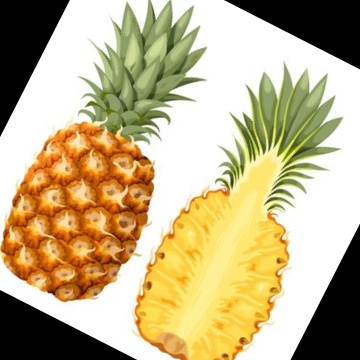Pineapple: (2, 2, 214, 300)
